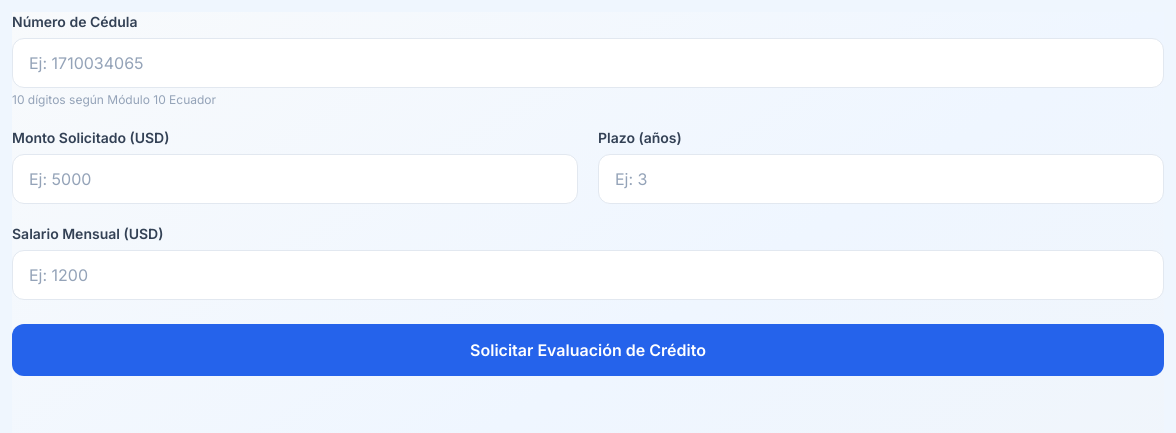
EvaluationForm › shows validation errors when submitting empty form
Click the button "Solicitar Evaluación de Crédito".
click(588, 350)  # box x1=12 y1=324 x2=1164 y2=376
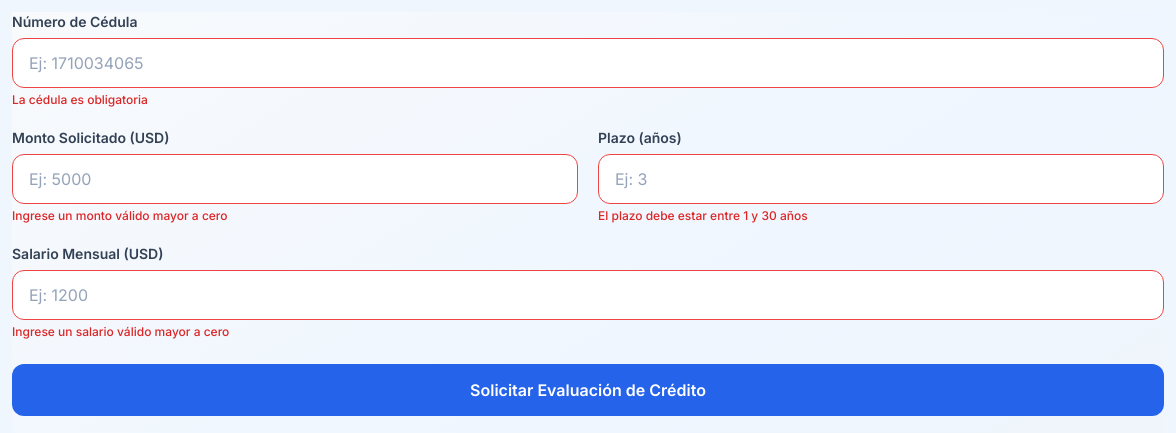
Expected: the text "La cédula es obligatoria" is shown, x1=12 y1=92 x2=148 y2=107
